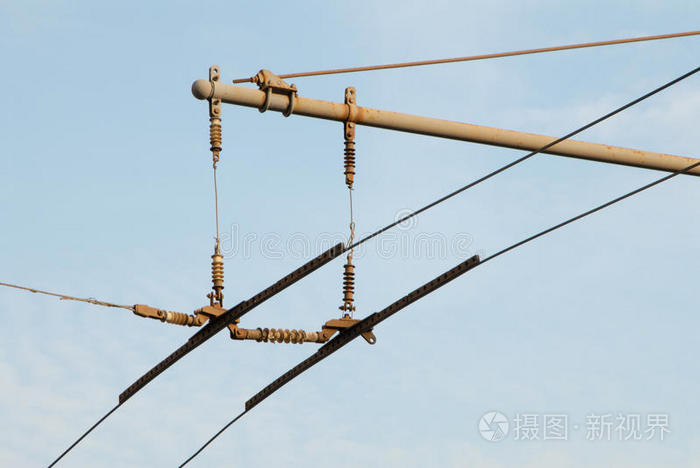insulator: (257, 326, 308, 346), (211, 260, 231, 287), (341, 142, 357, 174), (207, 122, 225, 150), (339, 270, 357, 296)
